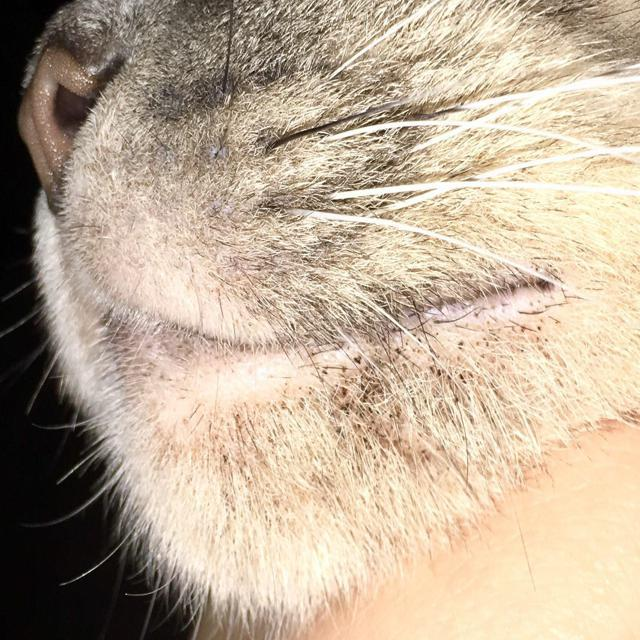acne: (314, 321, 569, 463)
